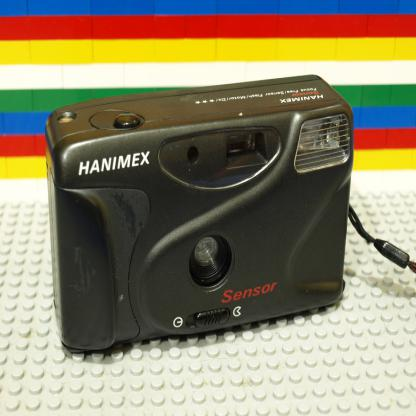Camera: (46, 74, 356, 355)
